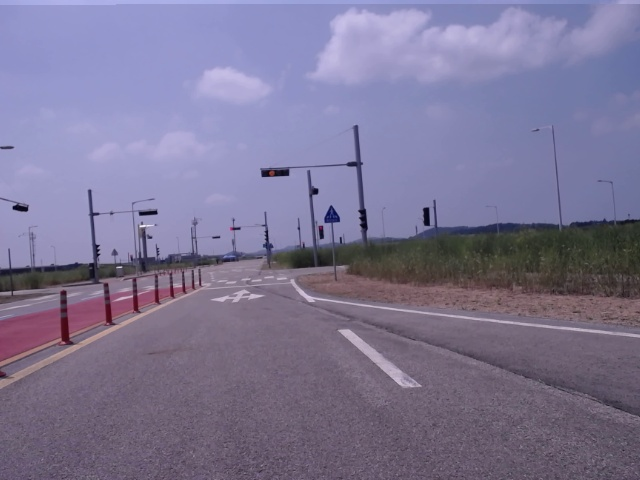orange_4: (261, 166, 291, 178)
